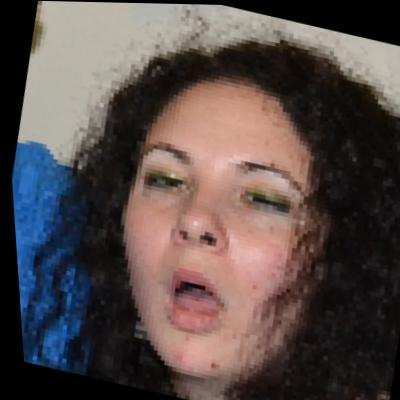surprise: (75, 66, 351, 393)
